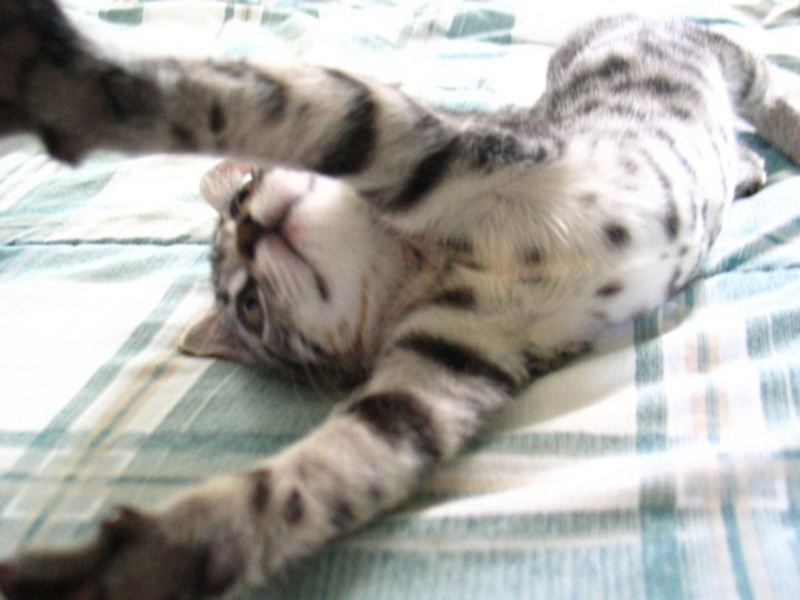cat: (5, 3, 800, 591)
